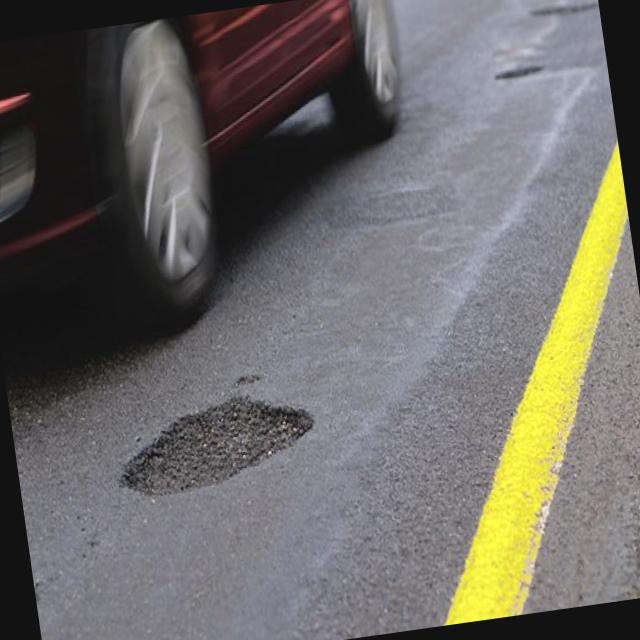bad-road: (112, 384, 320, 499)
